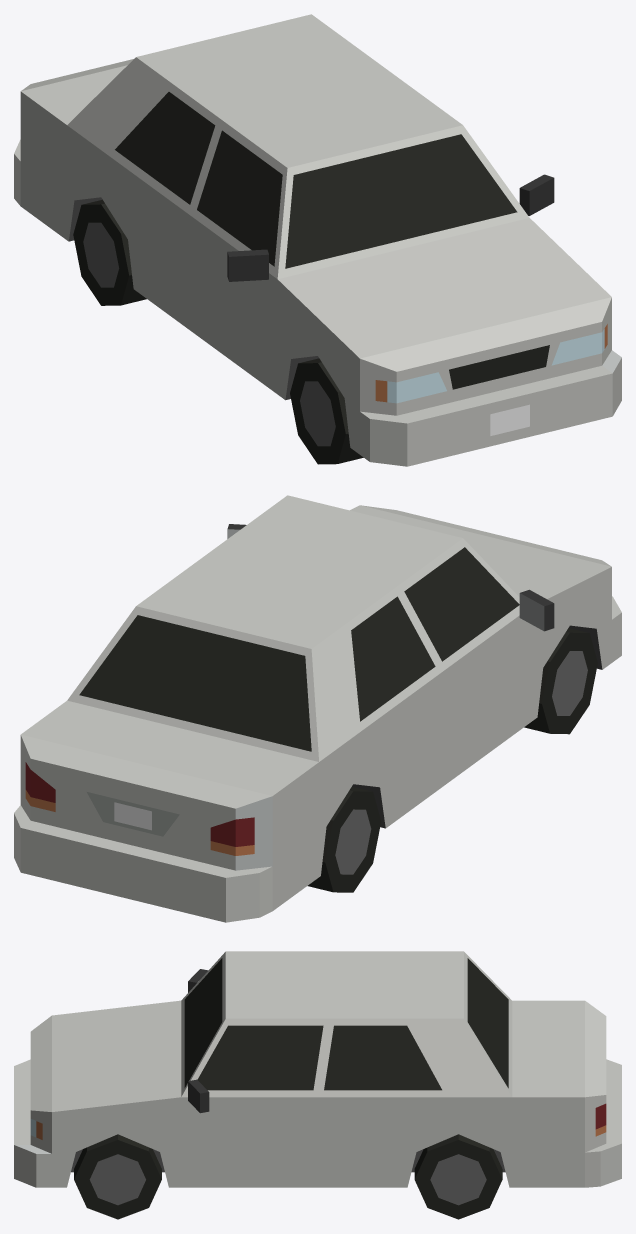
The model's file is Veh_Sedan_01_White.glb.
The picture shows the model from 3 angles, top to bottom: view 1: azimuth 30°, elevation 25°; view 2: azimuth 150°, elevation 25°; view 3: azimuth 270°, elevation 25°; orthographic projection. The views are drawn at different scales.
Visible parts, largest first — view 1: Sedan_01_Default, Wheel_FR, Wheel_RR; view 2: Sedan_01_Default, Wheel_RR, Wheel_FR; view 3: Sedan_01_Default, Wheel_RL, Wheel_FL.
Part boxes in pixels (x1,y1,x2,y2): Sedan_01_Default: (14, 14, 621, 466); Wheel_FR: (290, 358, 363, 464); Wheel_RR: (73, 199, 146, 305); Sedan_01_Default: (14, 495, 621, 922); Wheel_RR: (308, 786, 381, 892); Wheel_FR: (524, 628, 597, 734); Sedan_01_Default: (14, 951, 621, 1187); Wheel_RL: (414, 1134, 502, 1219); Wheel_FL: (74, 1134, 161, 1219).
Size of the model in its own units: 1.22 by 0.852 by 2.52.
1 material, 1 textured.
